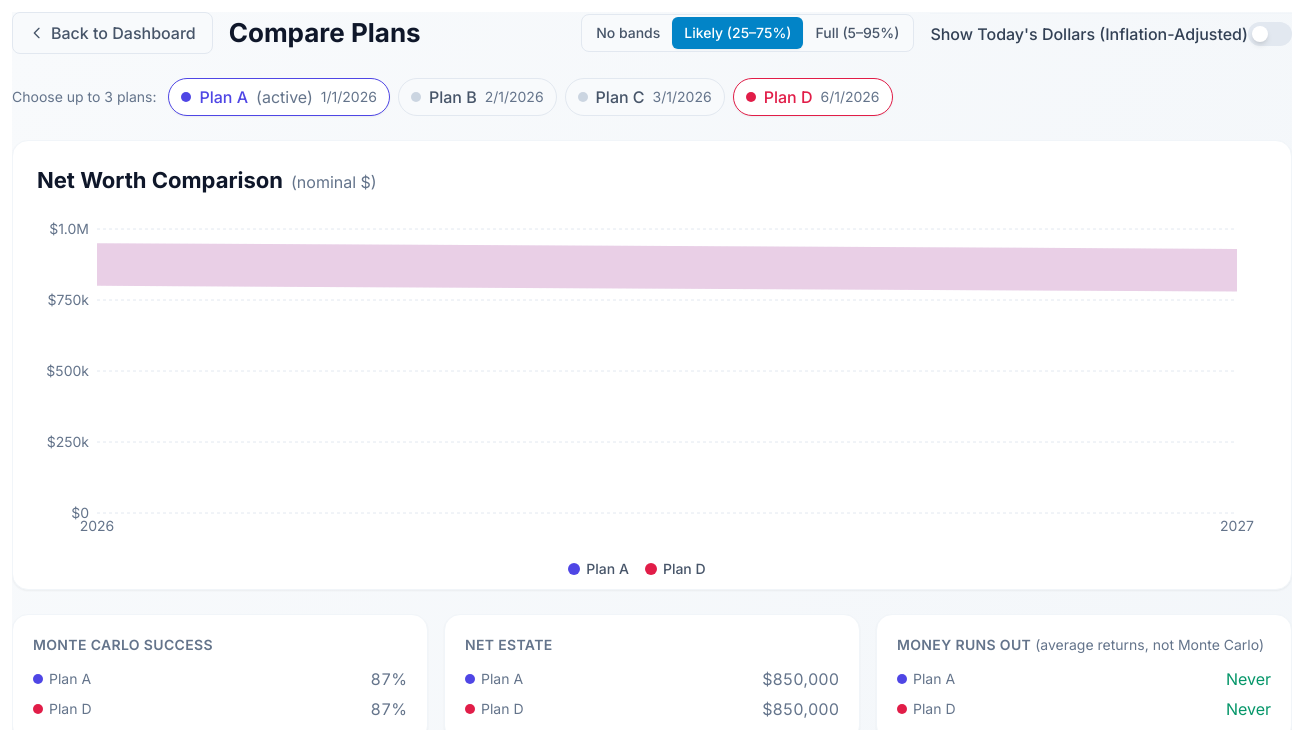
Test: ComparisonView › enforces a max of 3 selected comparands
The width and height of the screenshot is (1304, 730).
Step 1. Click the button "Plan B 2/1/2026" → (477, 97), box [398, 78, 557, 116]
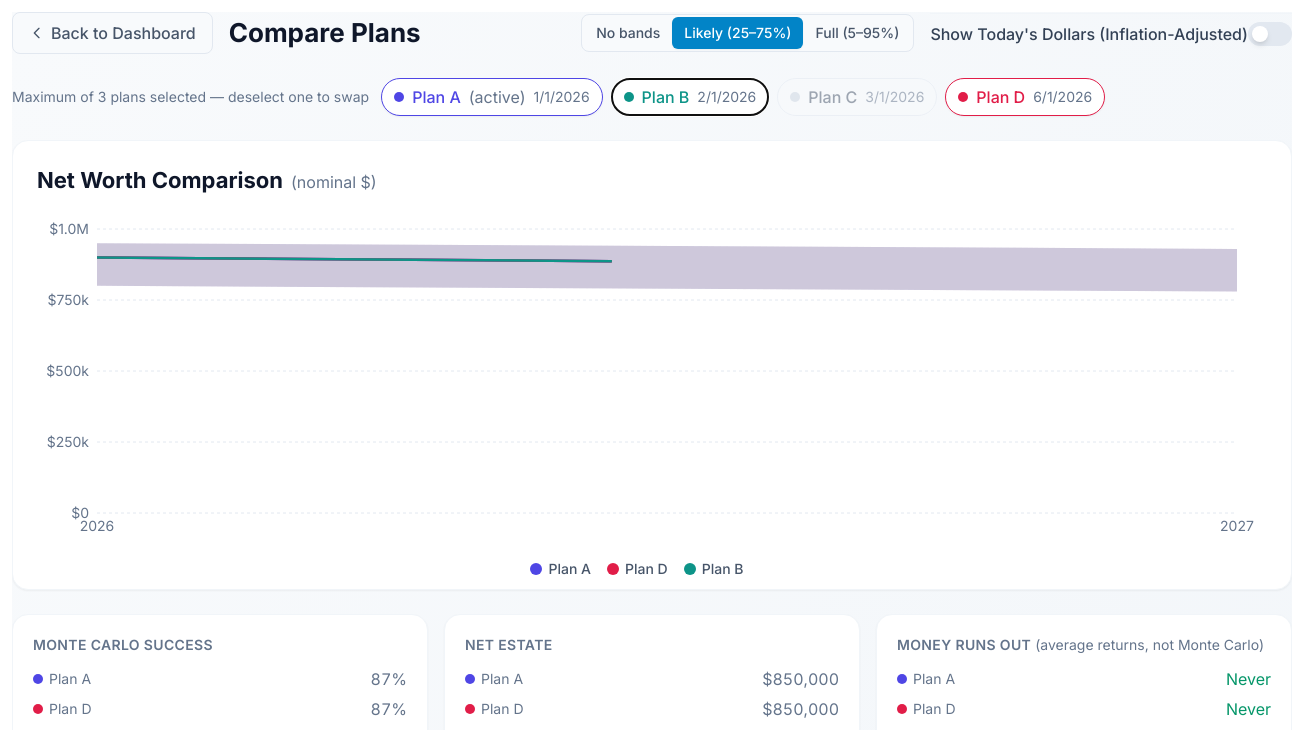
Result: the button "Plan C 3/1/2026" is disabled at [777, 78, 937, 116]
